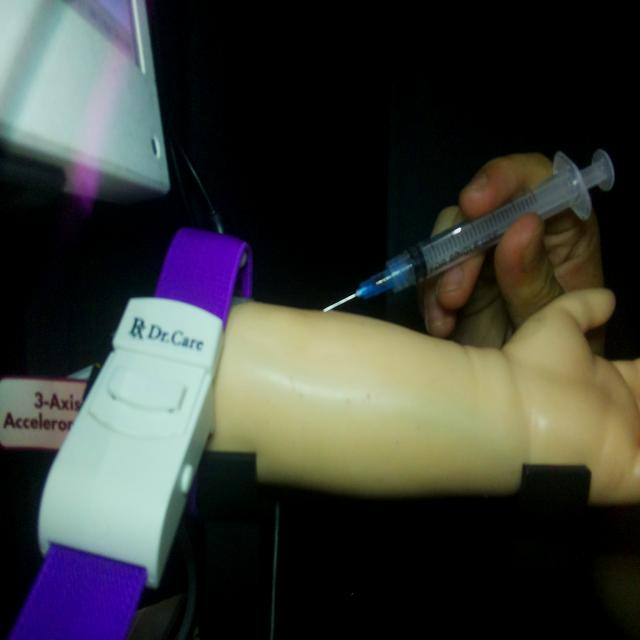18 degrees: (321, 144, 616, 314)
